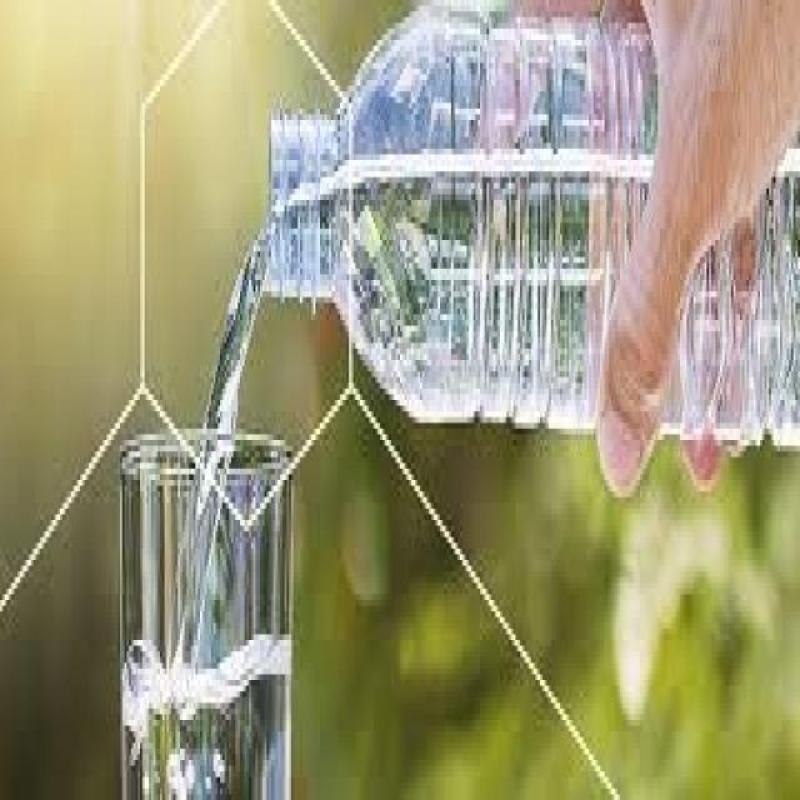botella: (269, 0, 800, 451)
